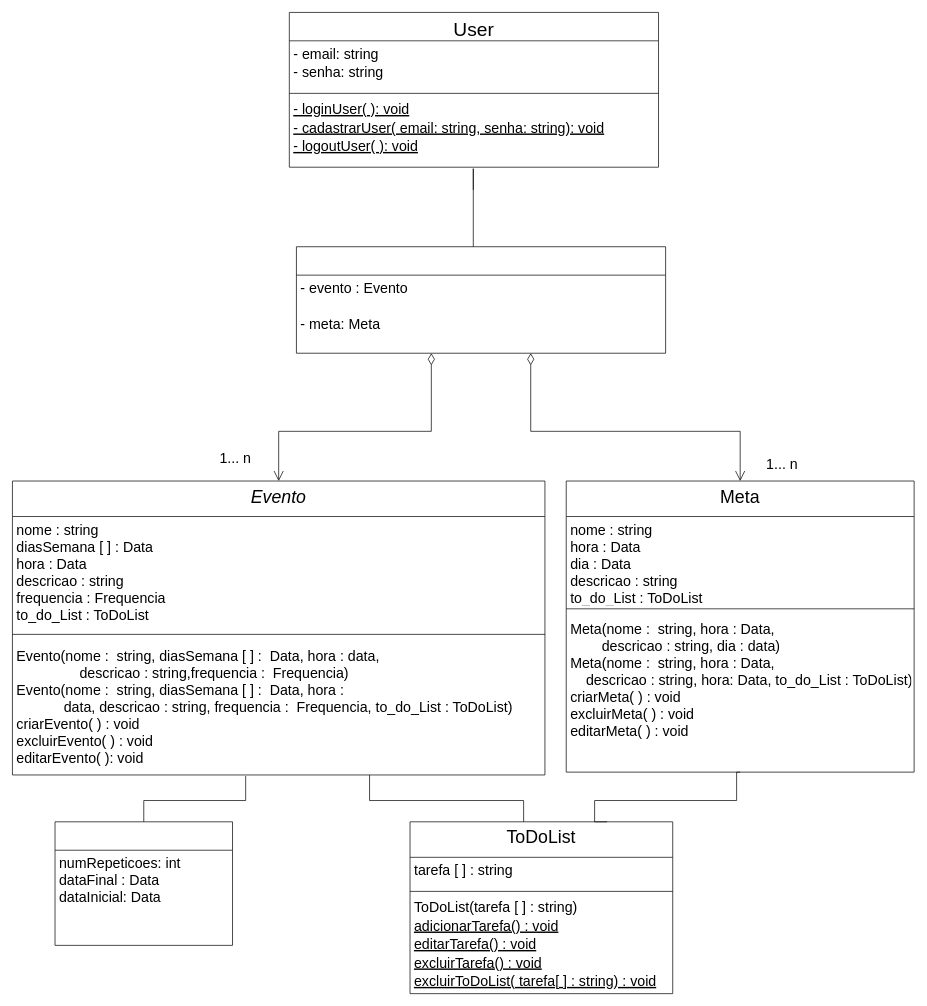
Some shapes in this 927 by 1006 pixel diagram are drawn without their labels. The box of each missing label's shape, as (x1, y1, x2, y2) in pixels:
Agenda: (296, 246, 666, 353)
Frequencia: (54, 821, 233, 945)
